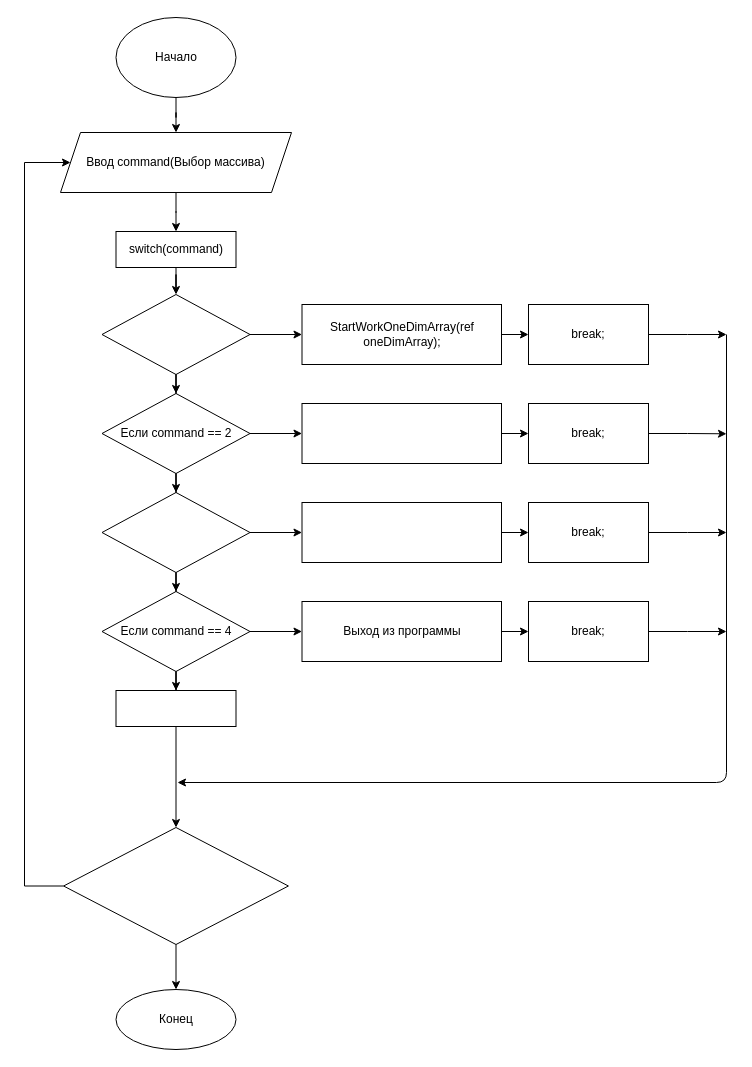
Some shapes in this 752 by 1067 pixel diagram are drawn without their labels. The centre of each missing label's shape, as x and y in pixels:
default: (x=175, y=708)
StartWorkRaggedTwoDimArray(ref raggedArray);: (x=401, y=532)
StartWorkTwoDimArray(ref twoDimArray);: (x=401, y=433)
Если command == 1: (x=175, y=334)
Если command == 3: (x=175, y=532)
Пока не будет вызван выход из программы: (x=175, y=885)
